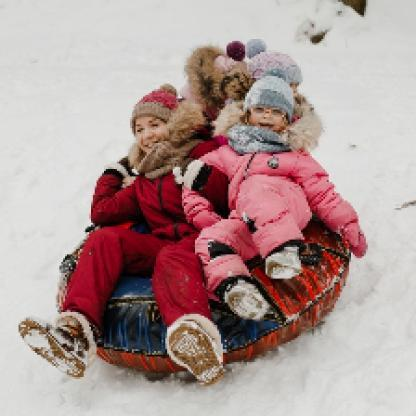child: (180, 66, 370, 323)
